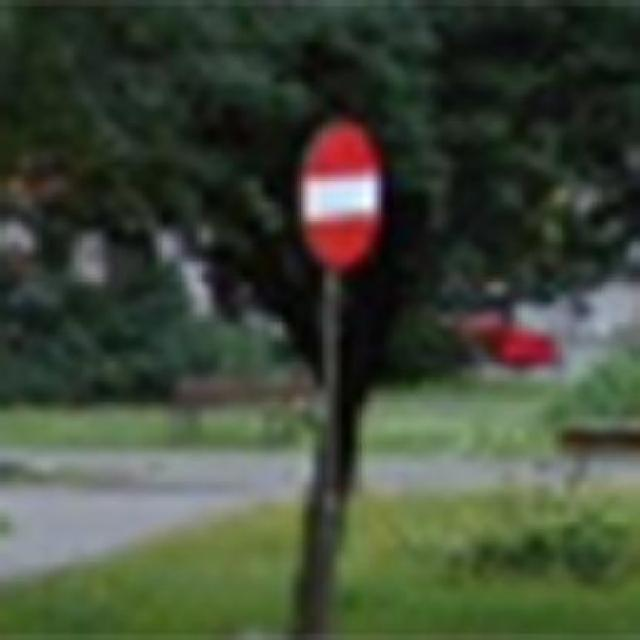Zakaz wjazdu: (298, 119, 380, 273)
